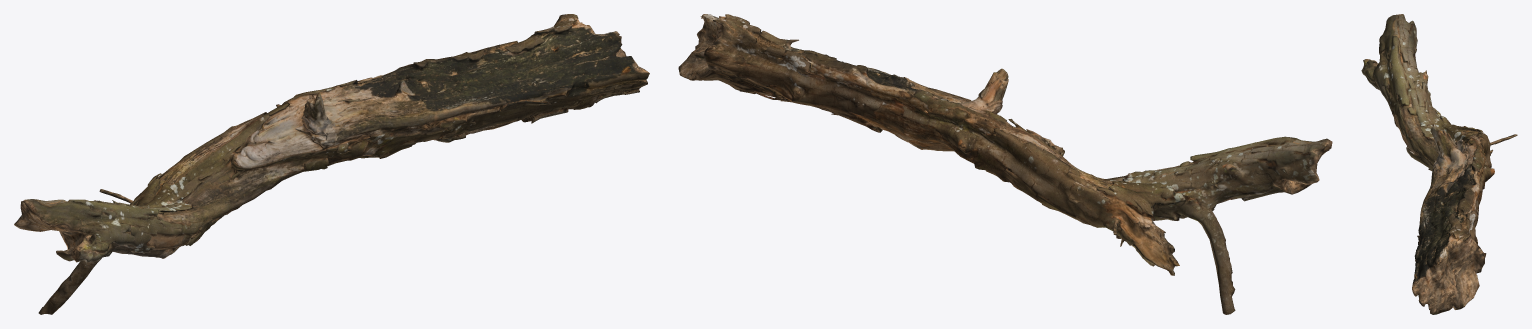
The model's file is dead_tree_trunk_02.glb.
3 renders of one model, left to right at view 1: azimuth 30°, elevation 25°; view 2: azimuth 150°, elevation 25°; view 3: azimuth 270°, elevation 25°, orthographic. The views are drawn at different scales.
Visible parts, largest first — view 1: dead_tree_trunk_02; view 2: dead_tree_trunk_02; view 3: dead_tree_trunk_02.
Part boxes in pixels (left/top/right/bottom): dead_tree_trunk_02: left=14, top=14, right=649, bottom=314; dead_tree_trunk_02: left=678, top=14, right=1332, bottom=314; dead_tree_trunk_02: left=1361, top=14, right=1517, bottom=314.
Bounding box in the file's own units: 4.05 × 1.05 × 1.05.
Materials: 1 (1 with a texture image).
